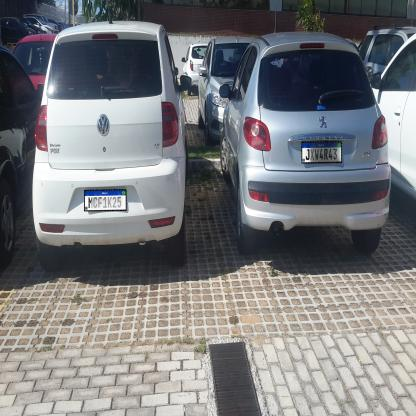PlacaM: (84, 190, 127, 212), (301, 141, 342, 164)
